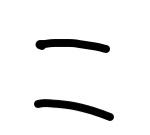eqv: (28, 34, 118, 122)
